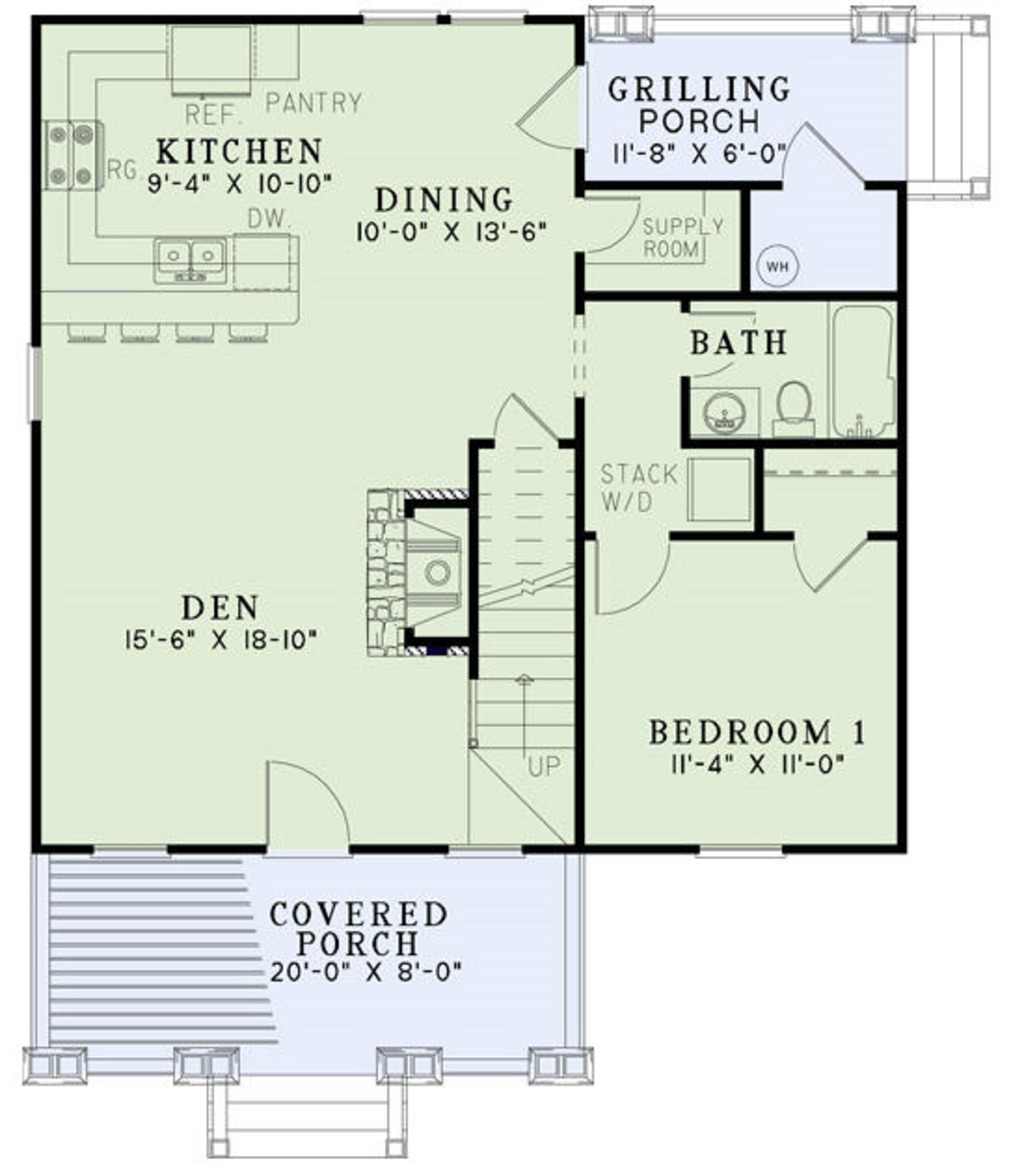door: (247, 755, 384, 866), (498, 48, 596, 150), (776, 517, 883, 601), (775, 117, 878, 203), (684, 297, 775, 375), (600, 535, 669, 617), (575, 179, 647, 254)
kitchen_bar: (49, 226, 320, 361)
large_sink: (767, 379, 822, 446)
small_sink: (693, 386, 753, 445)
stairs: (463, 437, 580, 846)
tub: (815, 297, 900, 459)
twin_sink: (155, 232, 235, 292)
window: (447, 5, 538, 35), (360, 3, 445, 30), (91, 846, 180, 859), (707, 848, 776, 855)
